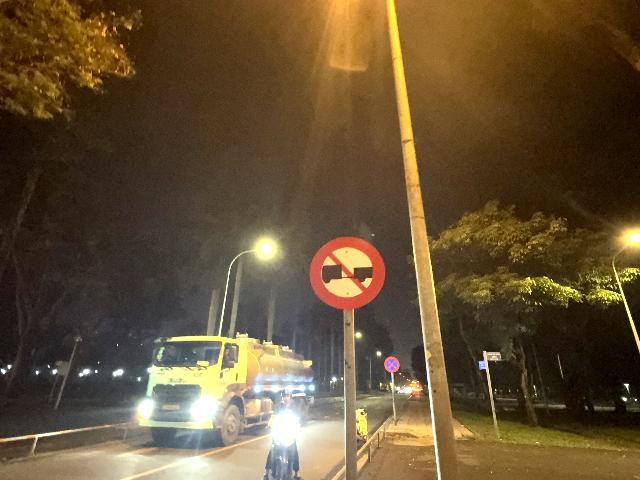cam-xe-somi-romooc: (310, 235, 385, 310)
